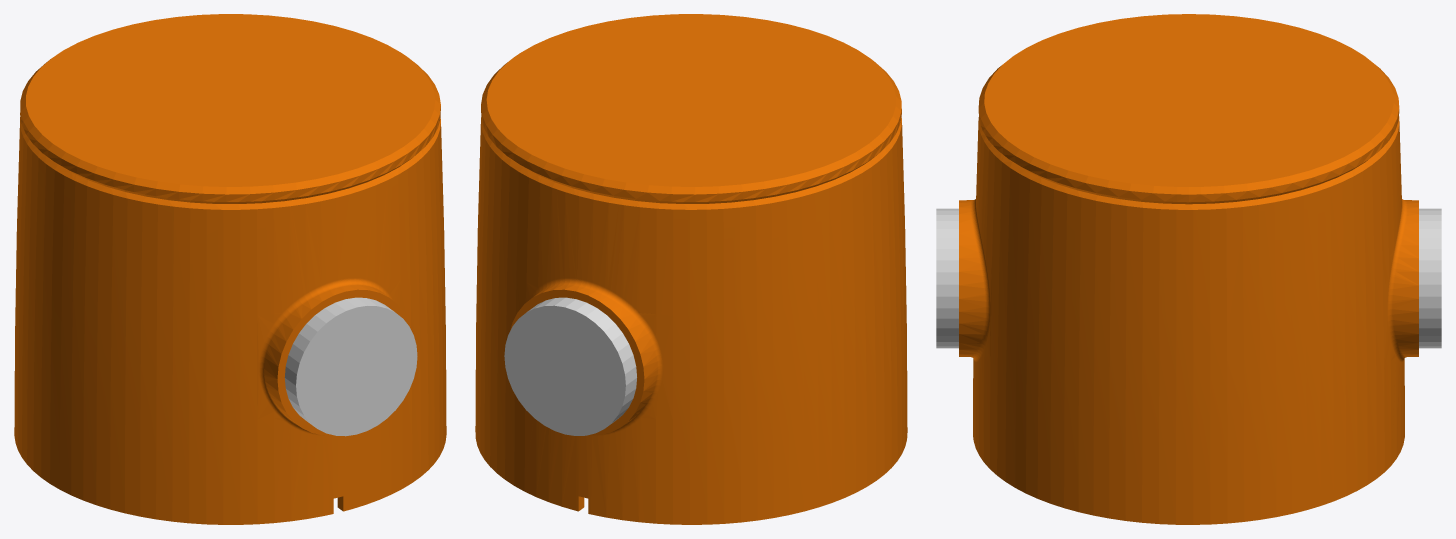
The picture shows the model from 3 angles, left to right: view 1: azimuth 30°, elevation 25°; view 2: azimuth 150°, elevation 25°; view 3: azimuth 270°, elevation 25°; orthographic projection.
Parts seen in each view (by area): view 1: Link6; view 2: Link6; view 3: Link6.
Part boxes in pixels (x1,y1,x2,y2): Link6: [14, 14, 446, 524]; Link6: [475, 14, 907, 524]; Link6: [936, 14, 1441, 524].
Bounding box in the file's own units: 0.077 × 0.0655 × 0.09.
